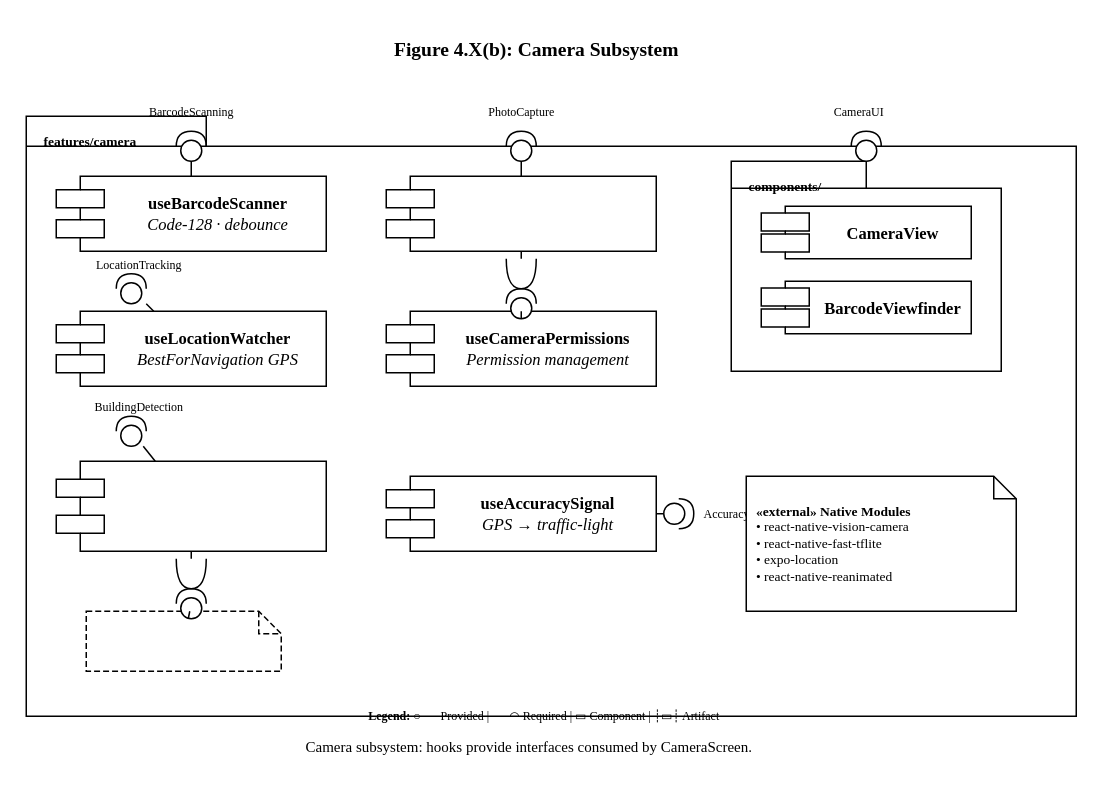
The diagram is 1103 pixels wide and 786 high, and some of its shapes have lost their labels. The centre of each missing label's shape, as x and y in pixels:
"useBuildingDetector TFLite · frameProcessor confidence ≥ 0.80" belongs at [190,505].
"useCameraCapture Photo + GPS snapshot" belongs at [520,213].
"«artifact» model.tflite" belongs at [183,640].
